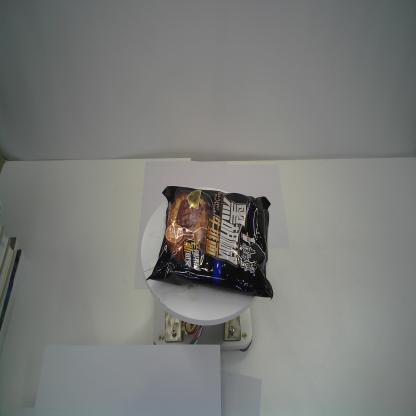Instant Noodles: (143, 184, 276, 302)
